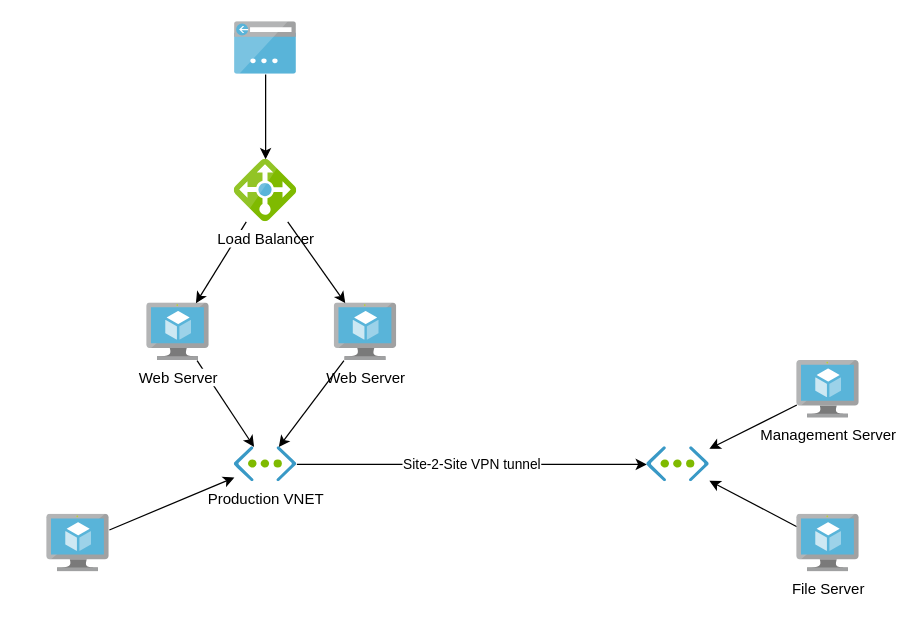
The diagram is 918 pixels wide and 619 high, and some of its shapes have lost their labels. Each missing label, with the centre of its shape:
Database Server: (x=77, y=542)
Management VNET: (x=677, y=463)
Public IP: (x=265, y=47)
